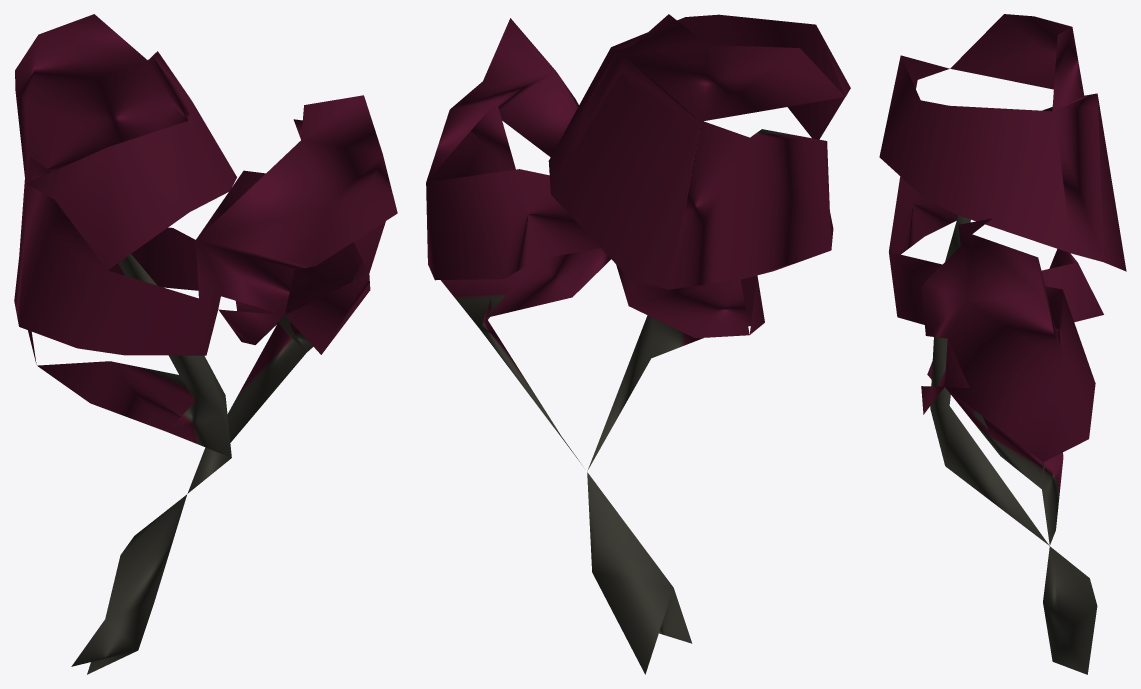
Rendered from usk_Tree_Spiral-kBomlgZ5xu_lod.glb.
3 views of the same model, side by side, from view 1: azimuth 30°, elevation 25°; view 2: azimuth 150°, elevation 25°; view 3: azimuth 270°, elevation 25° (orthographic). The views are drawn at different scales.
Visible parts, largest first — view 1: Tree_Spiral_2; view 2: Tree_Spiral_2; view 3: Tree_Spiral_2.
Boxes of the visible parts, <box> form: Tree_Spiral_2: <box>14,14,397,674</box>; Tree_Spiral_2: <box>426,14,850,674</box>; Tree_Spiral_2: <box>879,14,1126,674</box>.
Bounding box in the file's own units: 3.68 × 6.18 × 2.18.
1 material, 1 textured.
